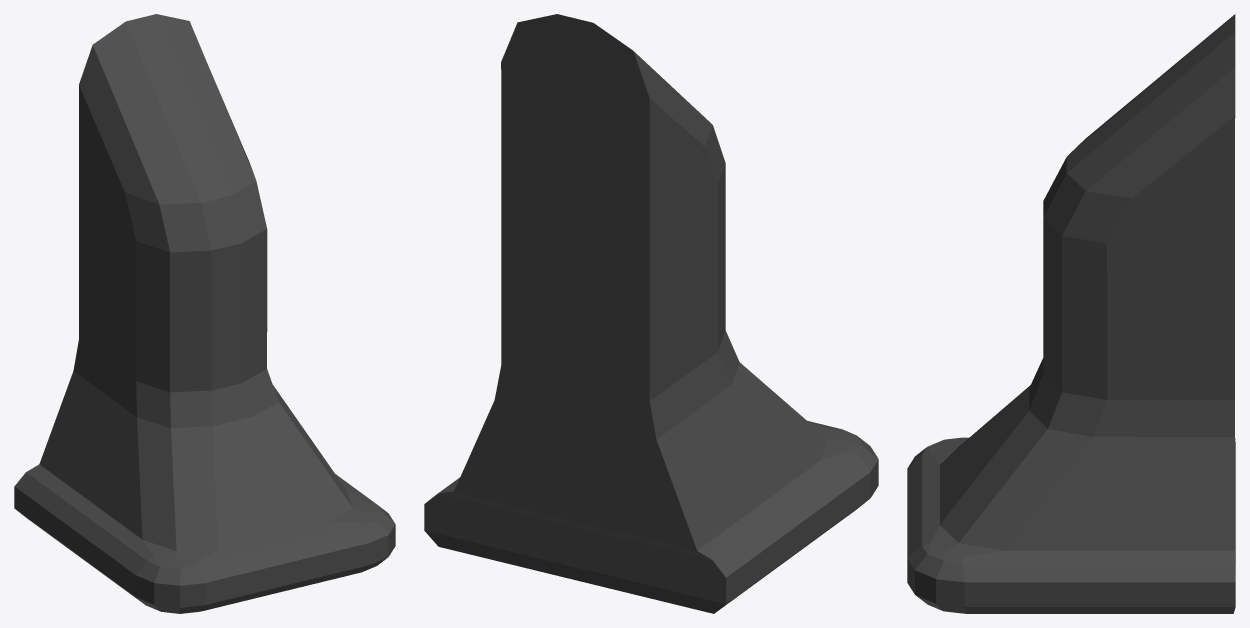
The model's file is Exhaust.fbx.
The picture shows the model from 3 angles, left to right: view 1: azimuth 30°, elevation 25°; view 2: azimuth 150°, elevation 25°; view 3: azimuth 270°, elevation 25°; orthographic projection. The views are drawn at different scales.
Parts seen in each view (by area): view 1: ExhaustFan; view 2: ExhaustFan; view 3: ExhaustFan.
Boxes of the visible parts, x1=… form: ExhaustFan: x1=14, y1=14, x2=395, y2=613; ExhaustFan: x1=424, y1=14, x2=878, y2=613; ExhaustFan: x1=907, y1=14, x2=1235, y2=613.
Bounding box in the file's own units: 0.715 × 1.27 × 0.7185.
Materials: 1 (1 with a texture image).
